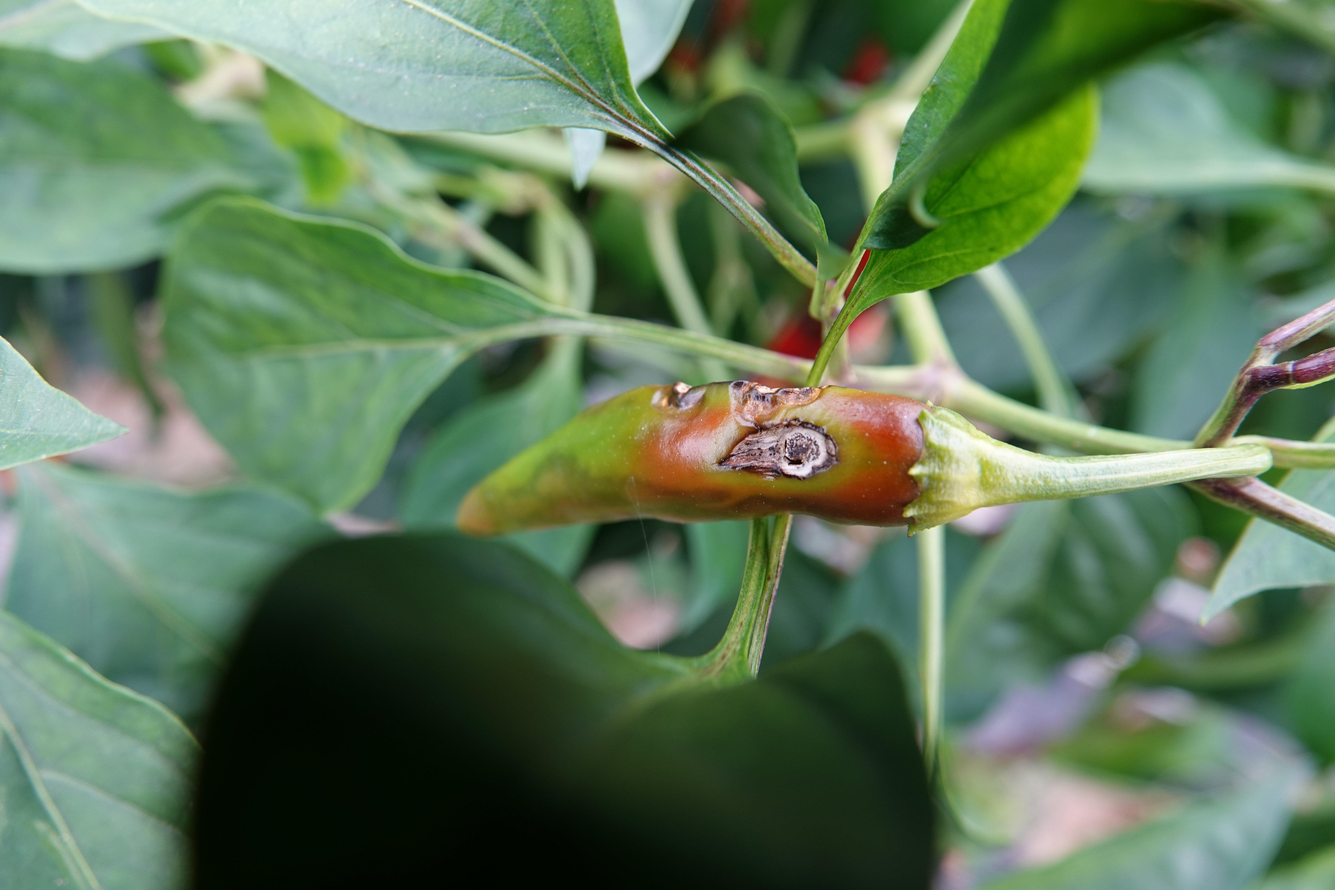Busuk Buah Antraknosa: (452, 374, 1004, 542)
